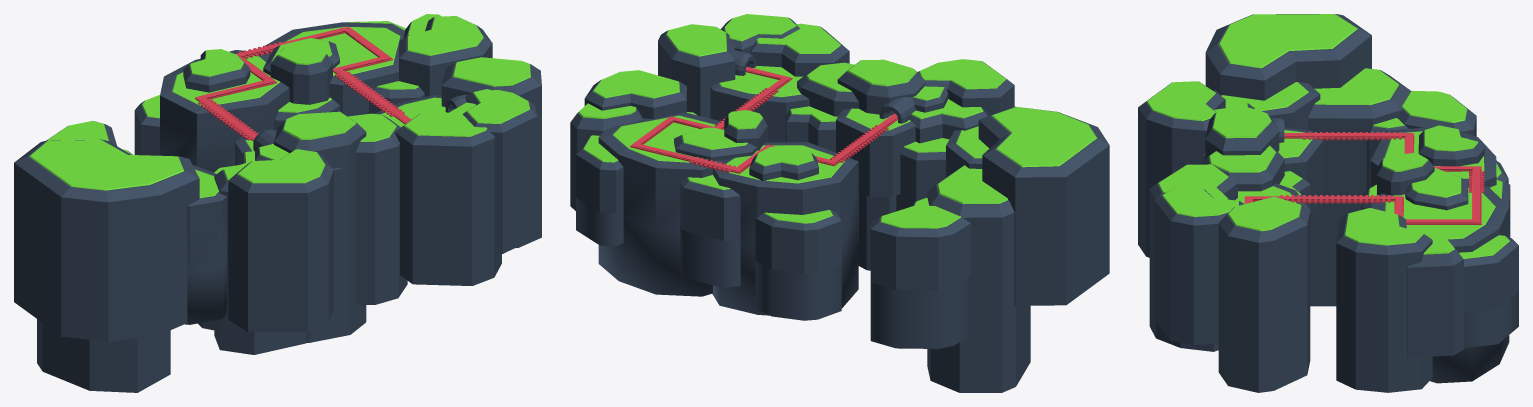
File: map2.fbx
3 renders of one model, left to right at view 1: azimuth 30°, elevation 25°; view 2: azimuth 150°, elevation 25°; view 3: azimuth 270°, elevation 25°, orthographic. The views are drawn at different scales.
Parts seen in each view (by area): view 1: Map2, Map2.Ground, Map2.Path.Red, Map2.Sniper.001, Map2.Sniper.005, Map2.Sniper.004, Map2.Sniper.002, Map2.Sniper.003; view 2: Map2, Map2.Ground, Map2.Path.Red, Map2.Sniper.001, Map2.Sniper.003, Map2.Sniper.005, Map2.Sniper.004, Map2.Sniper.002; view 3: Map2, Map2.Ground, Map2.Path.Red, Map2.Sniper.001, Map2.Sniper.004, Map2.Sniper.005, Map2.Sniper.003, Map2.Sniper.002.
Part boxes in pixels (left/top/right/bottom): Map2: left=14, top=14, right=541, bottom=392; Map2.Ground: left=172, top=26, right=446, bottom=151; Map2.Path.Red: left=195, top=26, right=411, bottom=141; Map2.Sniper.001: left=407, top=16, right=483, bottom=55; Map2.Sniper.005: left=189, top=49, right=243, bottom=76; Map2.Sniper.004: left=347, top=113, right=396, bottom=141; Map2.Sniper.002: left=277, top=46, right=326, bottom=64; Map2.Sniper.003: left=271, top=38, right=332, bottom=61; Map2: left=570, top=14, right=1109, bottom=392; Map2.Ground: left=613, top=66, right=910, bottom=183; Map2.Path.Red: left=630, top=66, right=897, bottom=173; Map2.Sniper.001: left=593, top=70, right=679, bottom=98; Map2.Sniper.003: left=682, top=127, right=747, bottom=149; Map2.Sniper.005: left=755, top=145, right=813, bottom=166; Map2.Sniper.004: left=807, top=62, right=854, bottom=91; Map2.Sniper.002: left=728, top=110, right=762, bottom=129; Map2: left=1138, top=14, right=1518, bottom=392; Map2.Ground: left=1235, top=130, right=1495, bottom=239; Map2.Path.Red: left=1244, top=132, right=1484, bottom=224; Map2.Sniper.001: left=1344, top=208, right=1423, bottom=245; Map2.Sniper.004: left=1209, top=145, right=1275, bottom=172; Map2.Sniper.005: left=1424, top=125, right=1478, bottom=151; Map2.Sniper.003: left=1411, top=168, right=1461, bottom=197; Map2.Sniper.002: left=1382, top=152, right=1428, bottom=171.
Size of the model in its own units: 17423 by 8252 by 11846.
